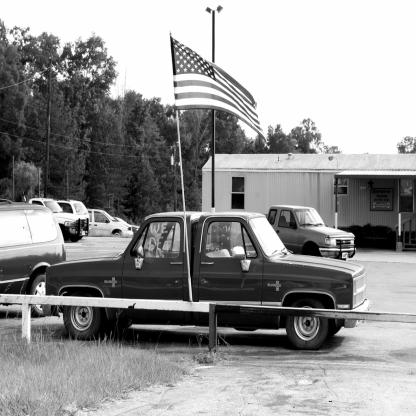Car: (0, 199, 372, 350)
Truck: (11, 208, 383, 356)
